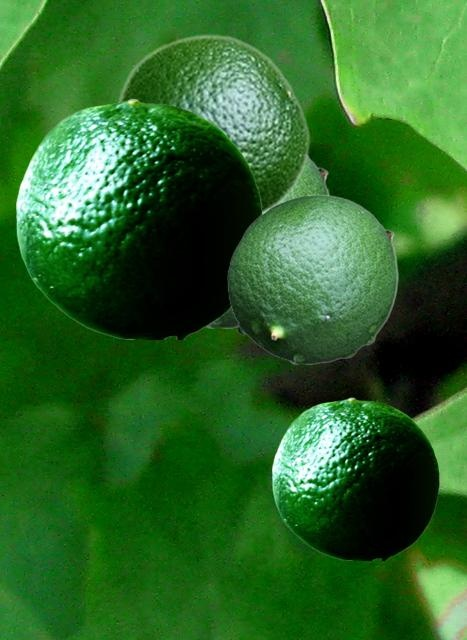calamansi: (16, 98, 261, 338), (114, 33, 310, 212), (227, 194, 397, 363), (272, 397, 438, 559), (206, 155, 332, 327)
